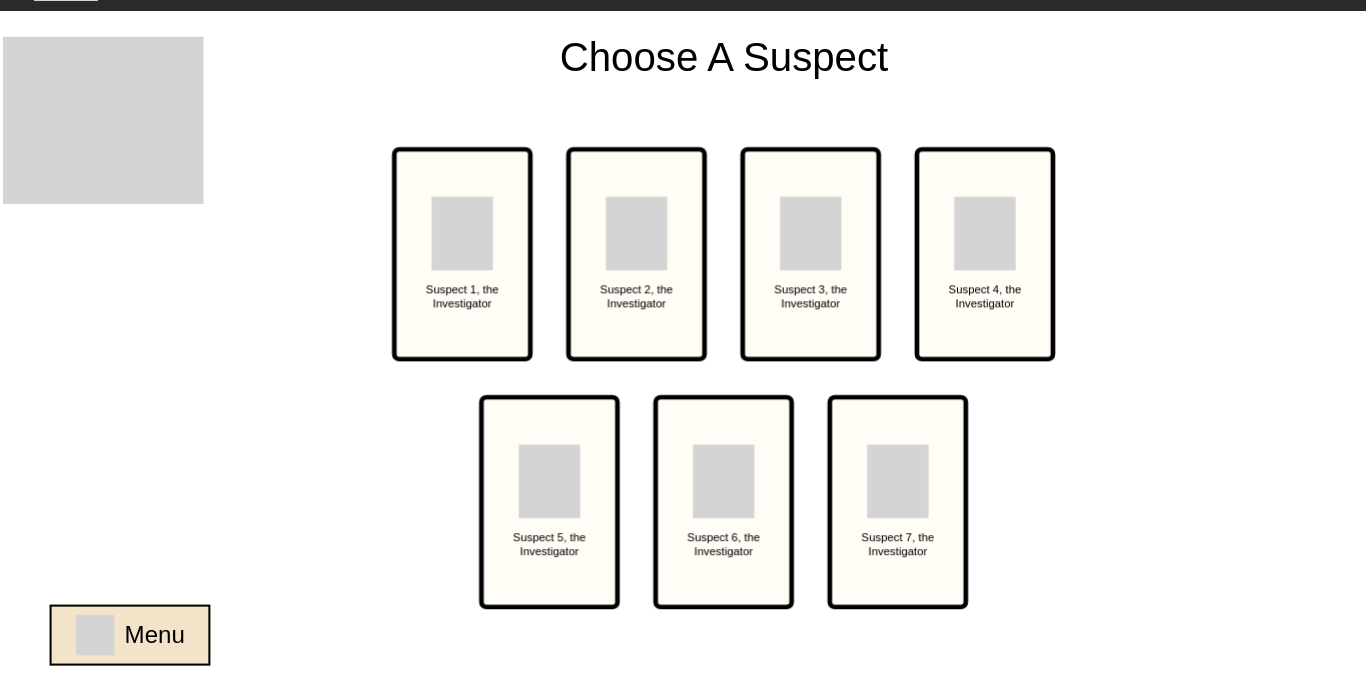
Scenario: CT-006 suspect reason validation › keeps Next disabled below 10 words and enables it at 10 words
Click the button with aria-label "Choose Suspect 1 as suspect" at {"x": 462, "y": 254}, box top-left (392, 147), bottom-right (533, 361)
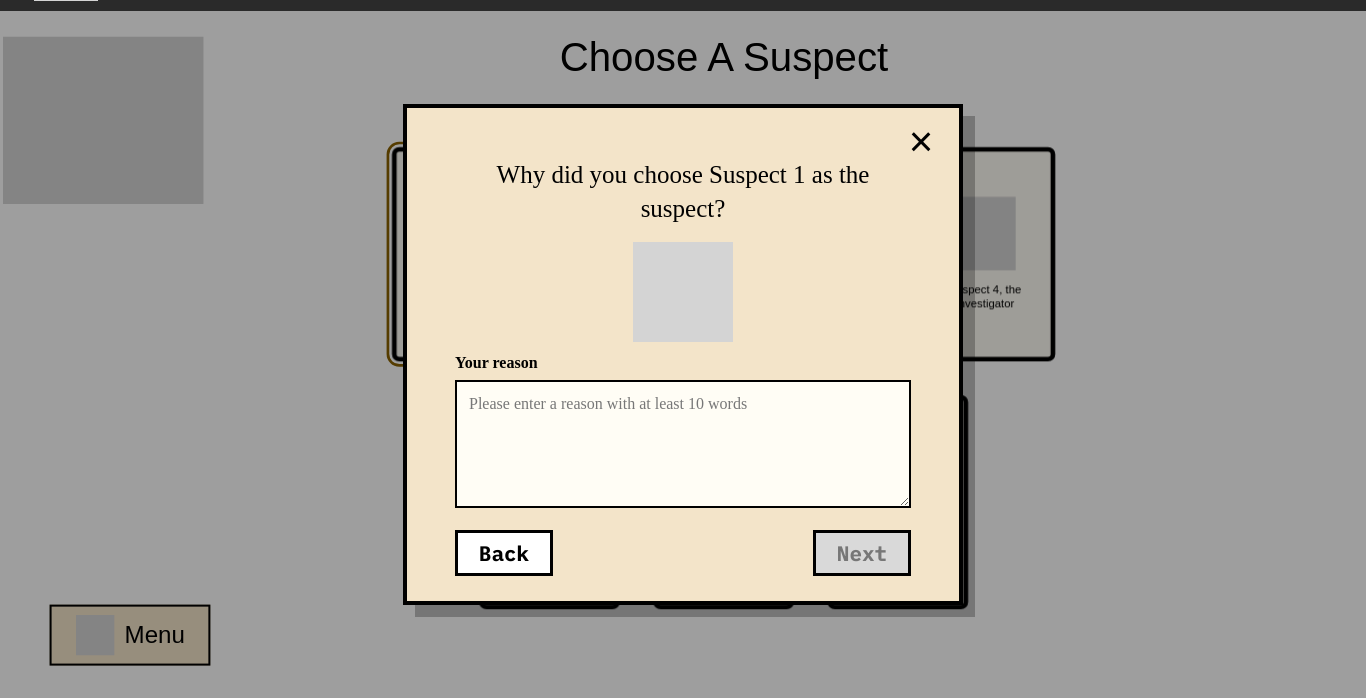
expect the button "Next" is disabled: met, box top-left (813, 530), bottom-right (911, 576)
Type "I chose this suspect because clues point there" into the text box labelled "Your reason" at {"x": 683, "y": 444}, box top-left (455, 380), bottom-right (911, 508)
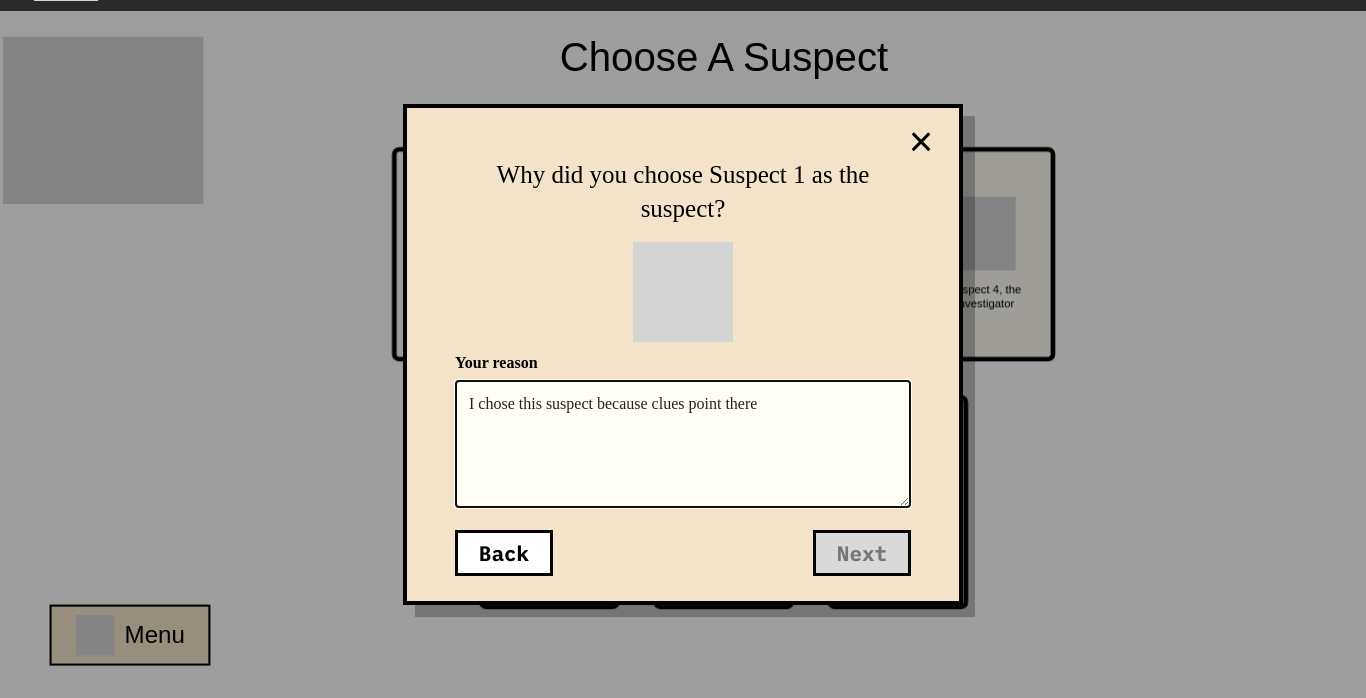
expect the button "Next" is disabled: met, box top-left (813, 530), bottom-right (911, 576)
Type " after reviewing evidence carefully" into the text box labelled "Your reason" at {"x": 683, "y": 444}, box top-left (455, 380), bottom-right (911, 508)
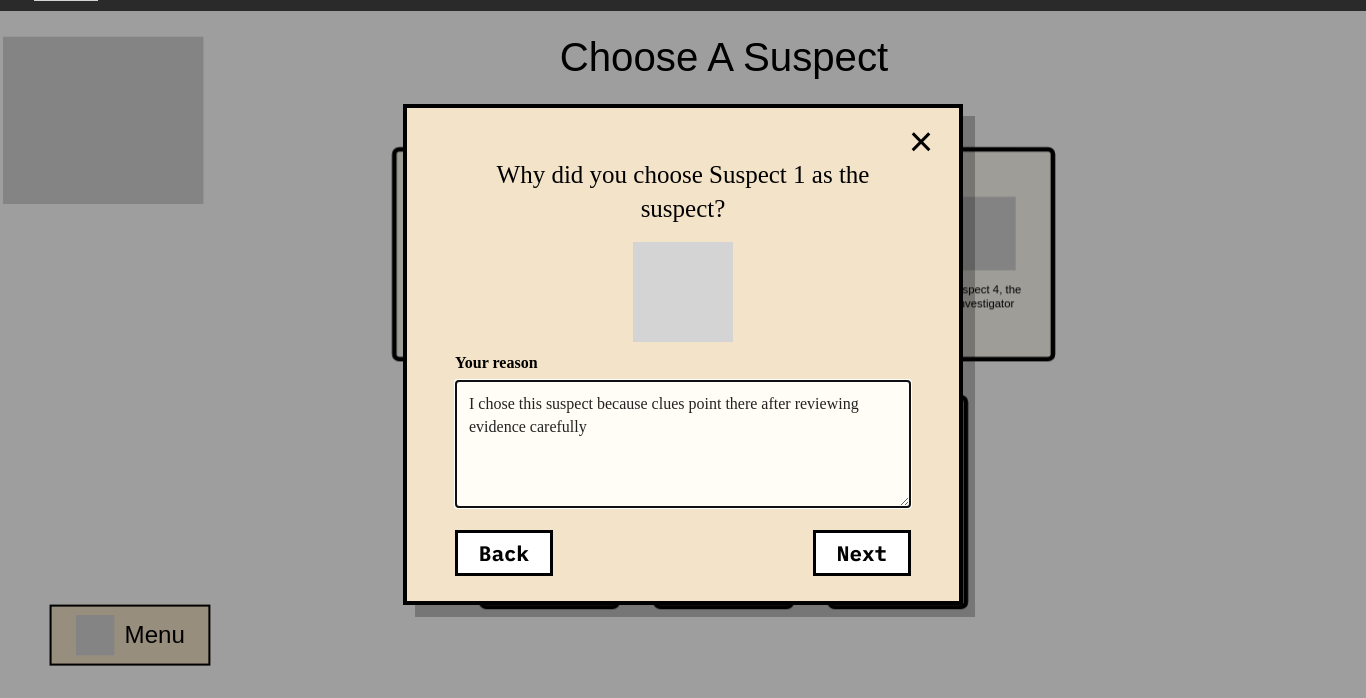
expect the button "Next" is enabled: met
Click the button "Next" at {"x": 862, "y": 553}, box top-left (813, 530), bottom-right (911, 576)
(page scrolled)
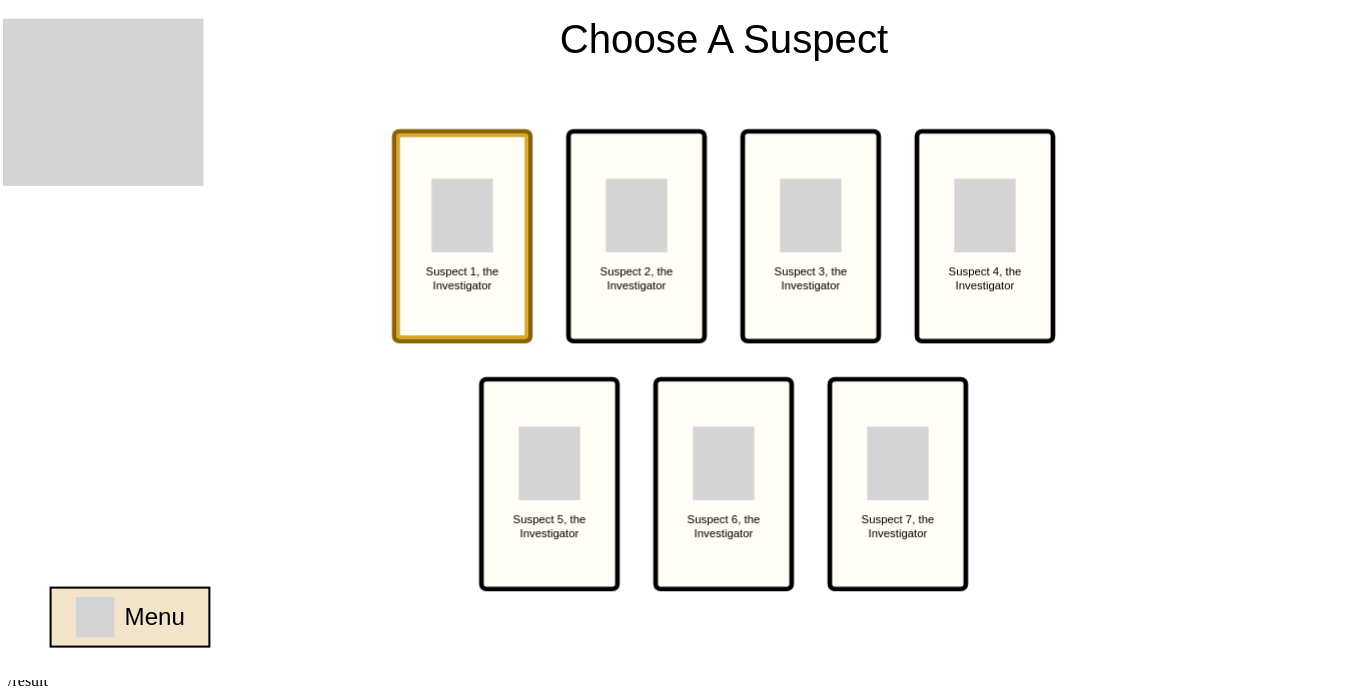
expect the text with test id "current-location" reads "/result": met, box top-left (8, 672), bottom-right (48, 689)
